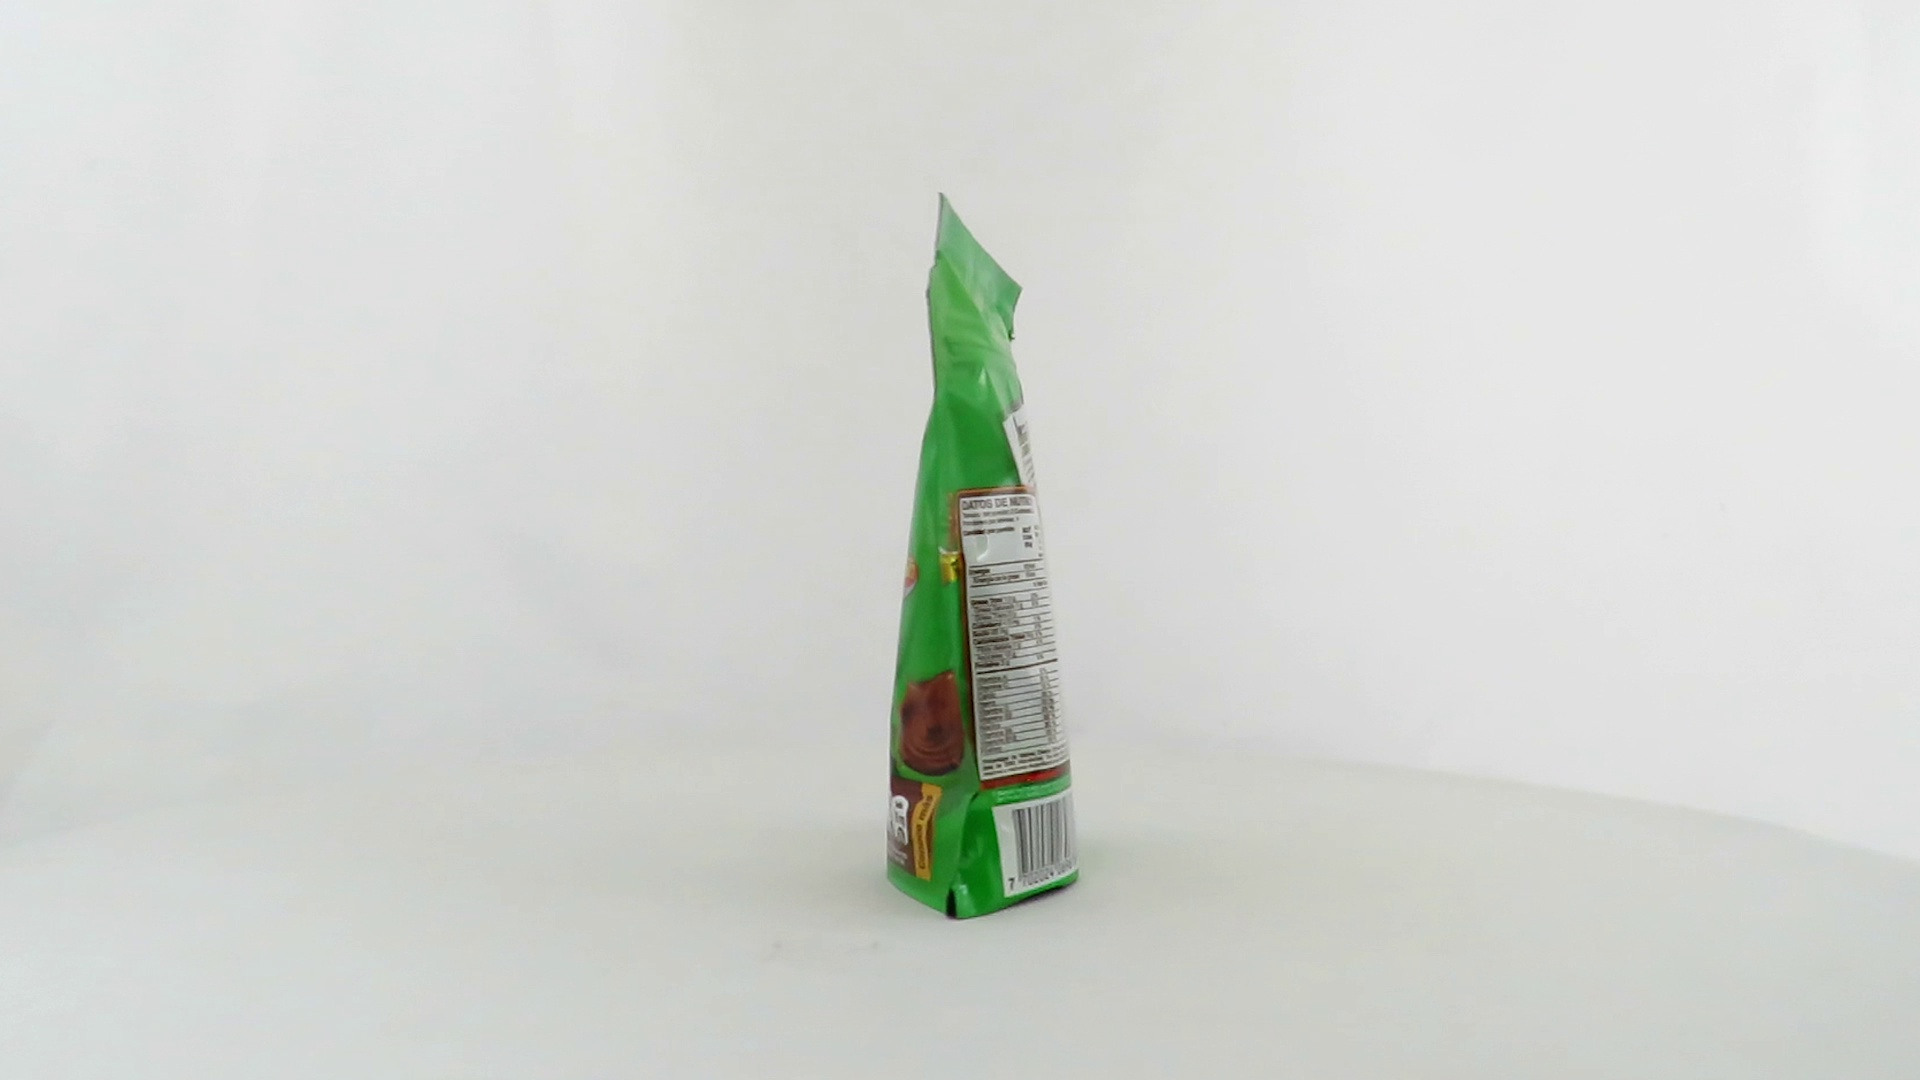COL0170203DYP10000: (881, 187, 1098, 927)
